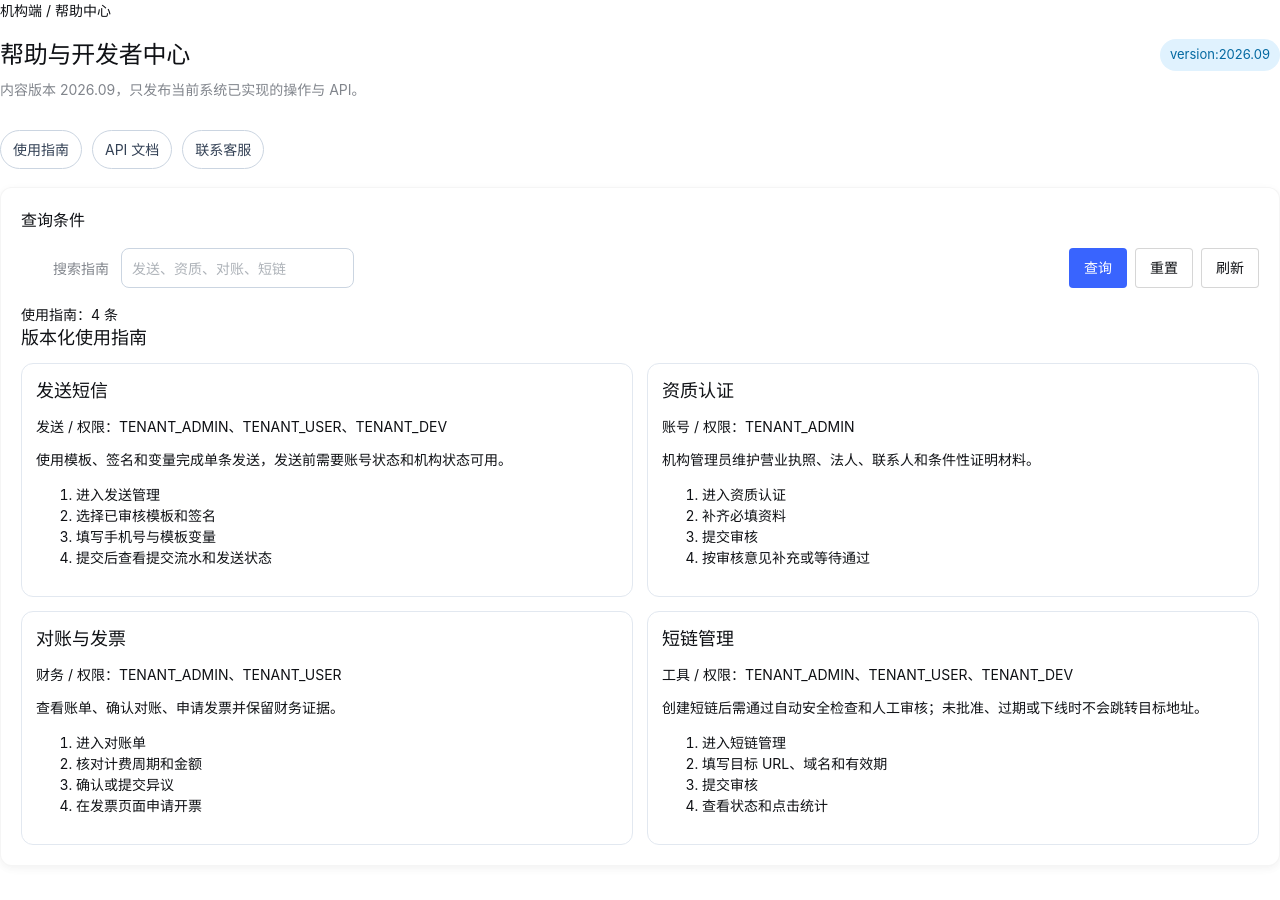
it: tenant help center query controls › resets the local guide filter and makes a local refresh observable
The width and height of the screenshot is (1280, 900).
Type "短链" into the field with test id "tenant-tenant-help-guide-search-input" at (238, 268), box [121,248,354,288]
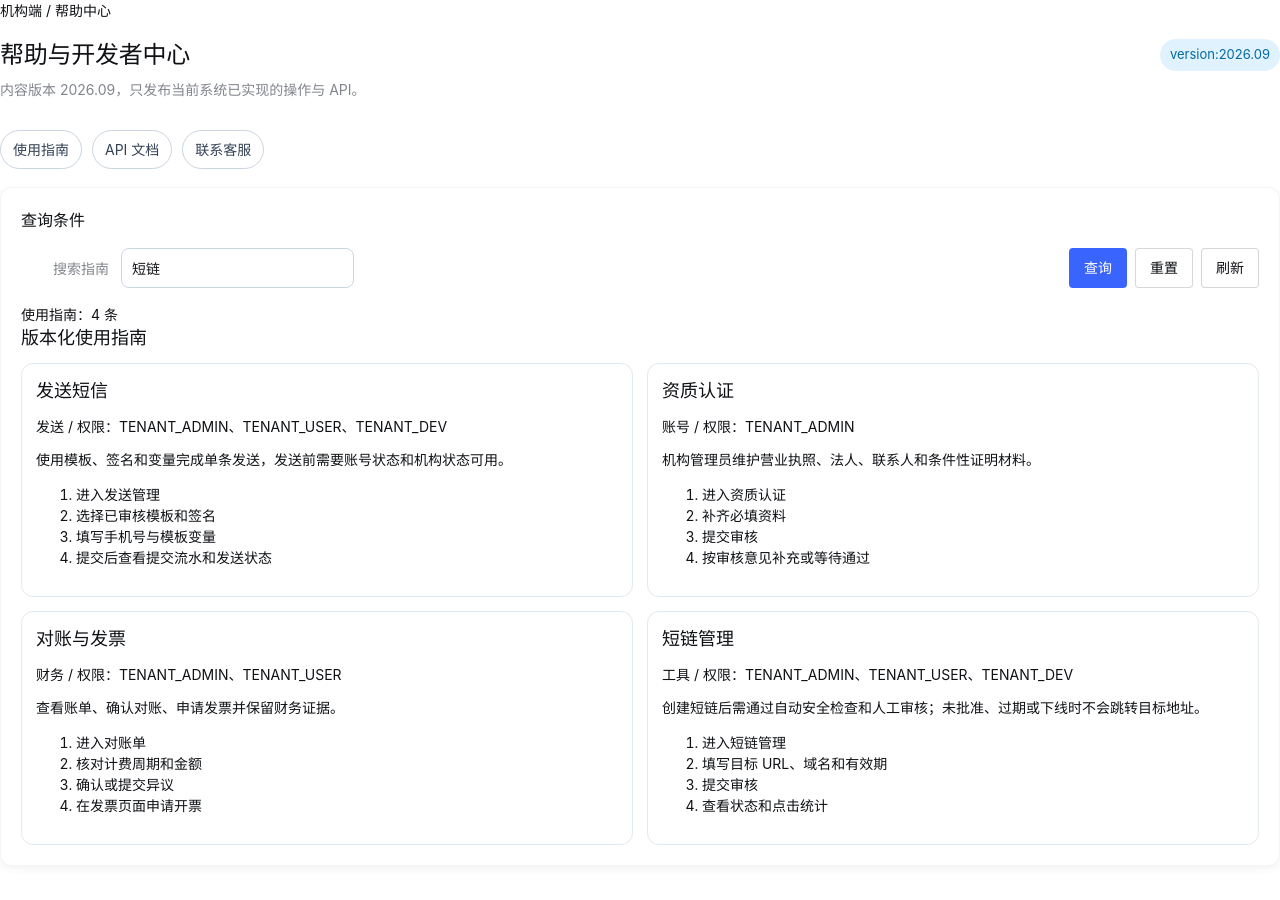
Click the button with test id "query-submit" at (1098, 268), box [1069,248,1127,288]
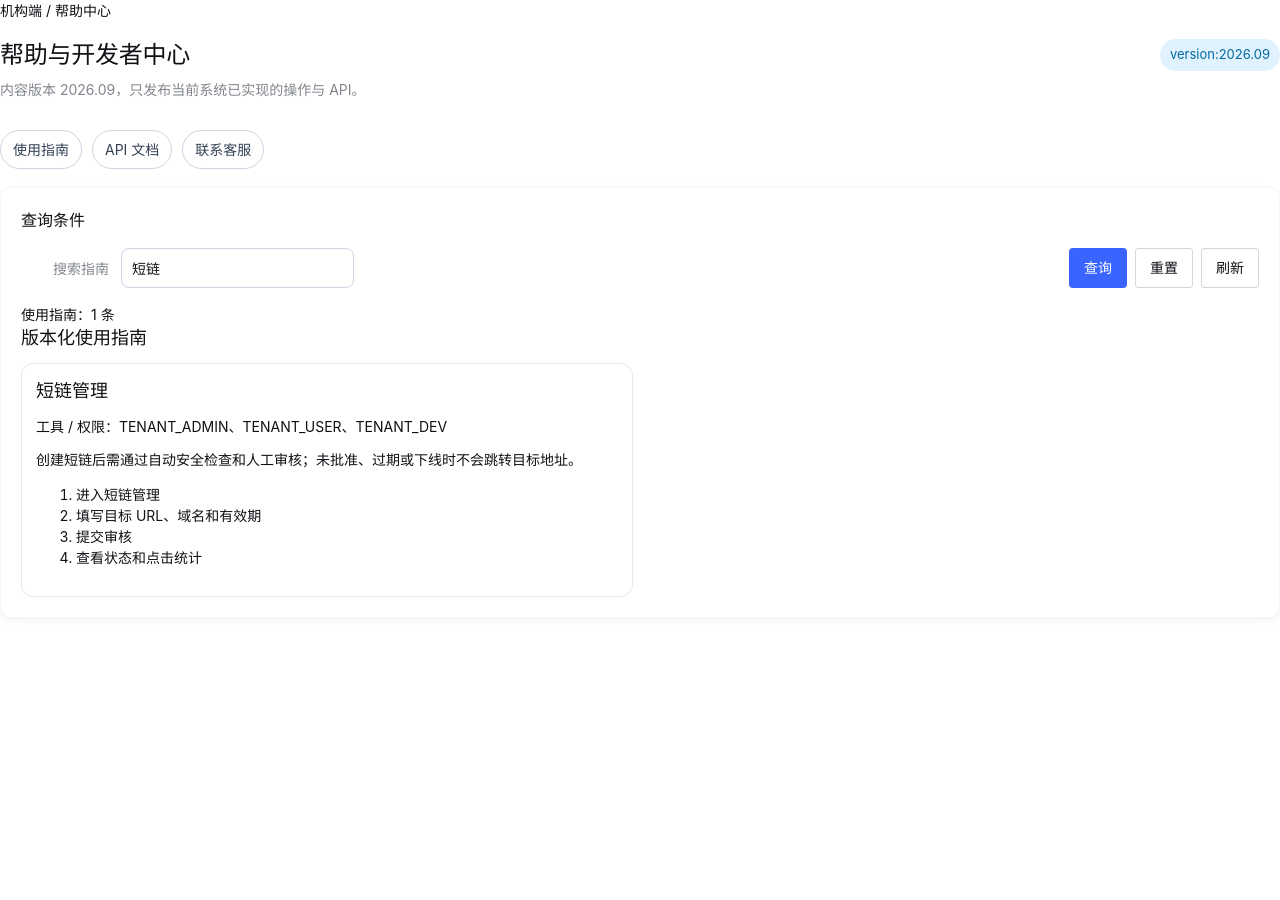
Click the button with test id "query-reset" at (1164, 268), box [1135,248,1193,288]
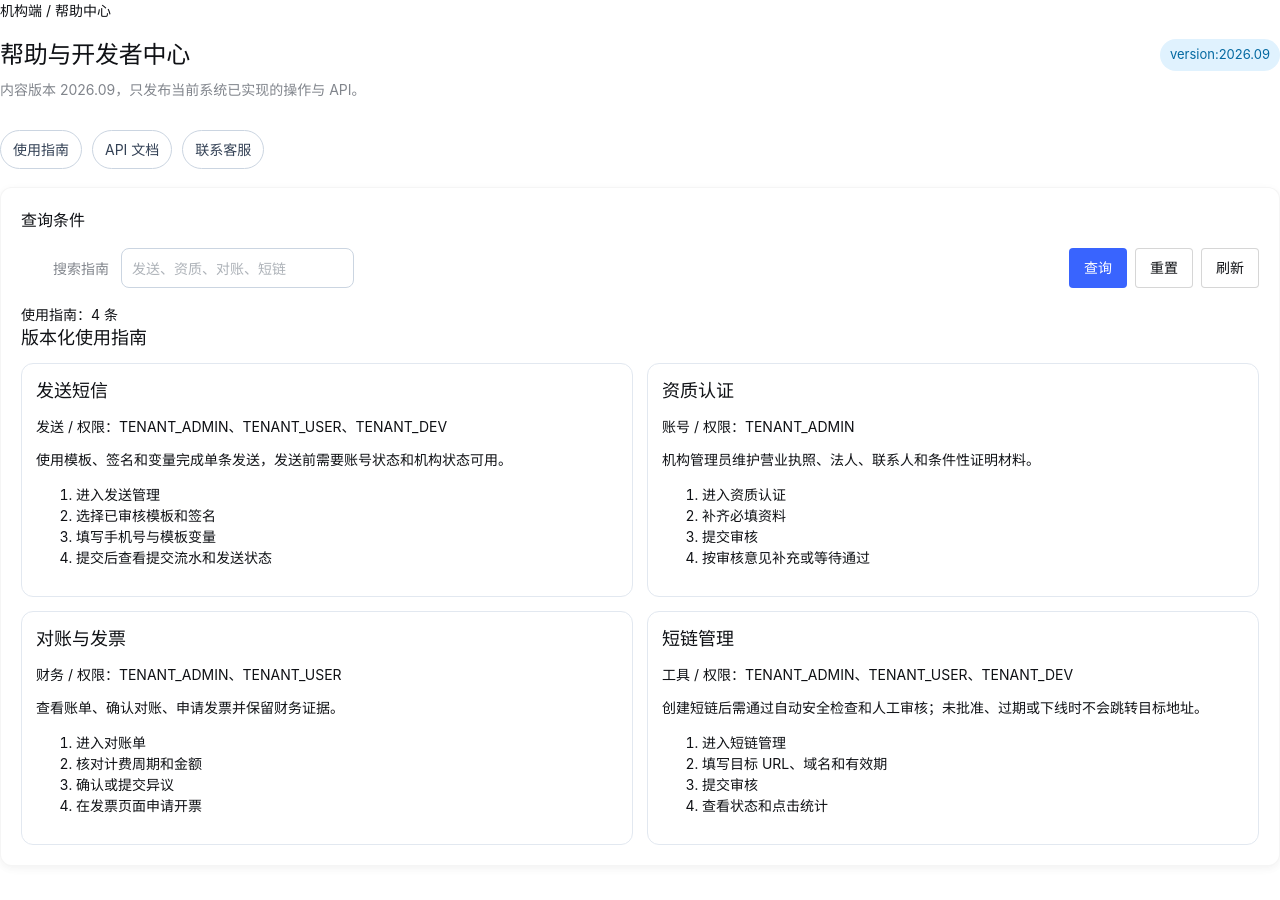
Expected: the field with test id "tenant-tenant-help-guide-search-input" is empty, [121,248,354,288]
Expected: the element with test id "tenant-tenant-help-guide-results" shows "资质", [21,363,1259,845]
Click the button with test id "query-refresh" at (1230, 268), box [1201,248,1259,288]
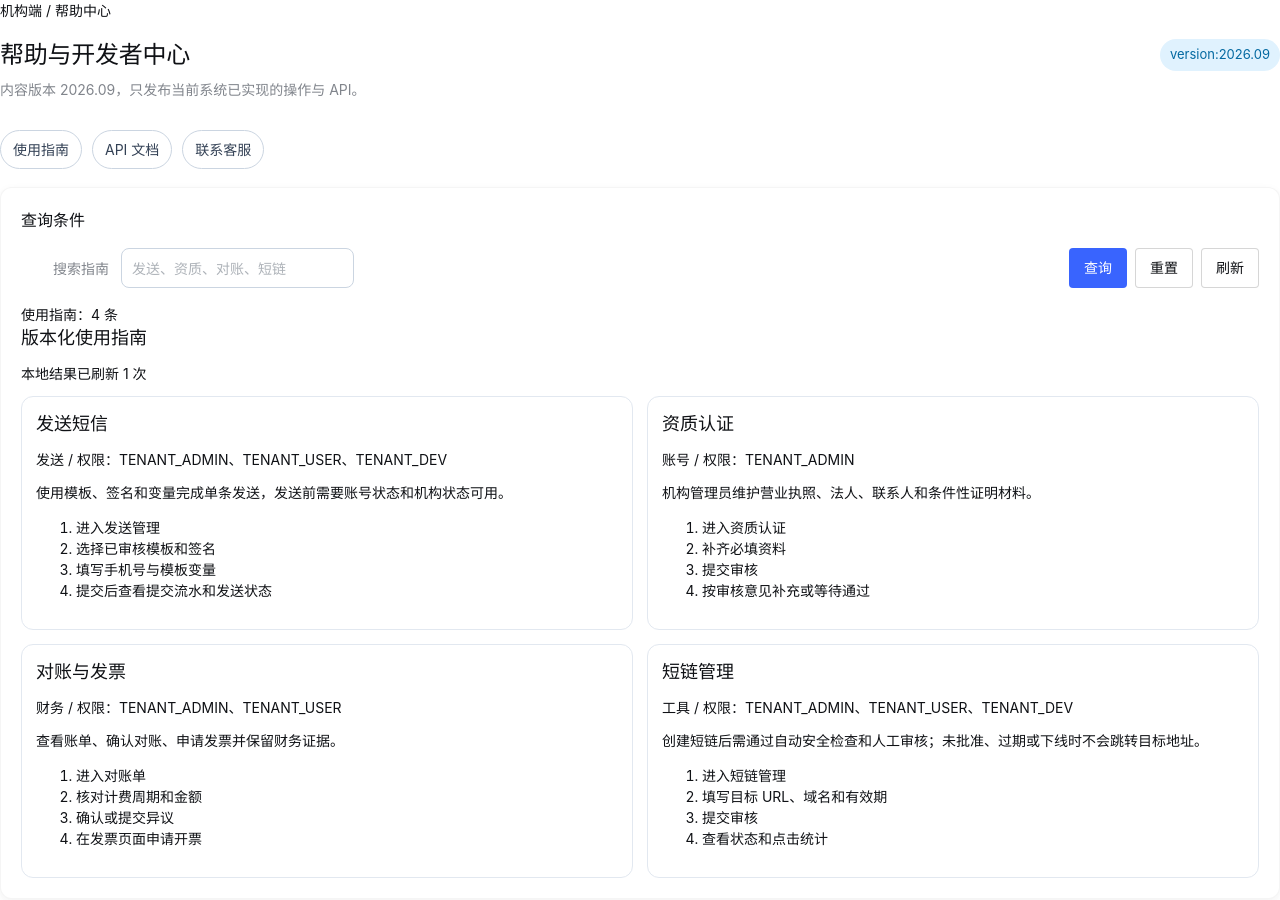
Expected: the message with test id "tenant-tenant-help-guide-refresh-result" shows "已刷新 1 次", [21,365,147,382]
